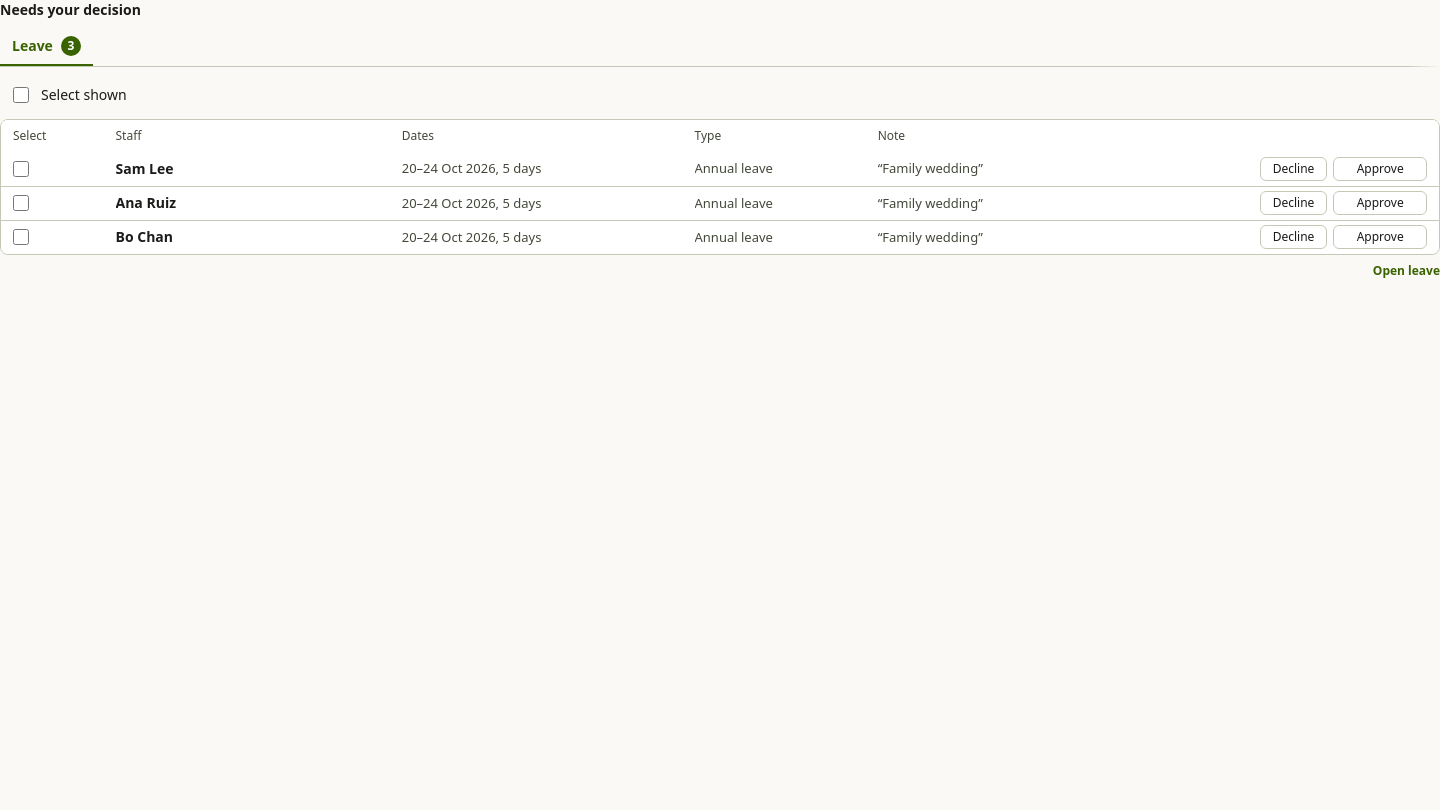
Test: Leave group — Complete all (decision-bulk) › re-reads after a row gets no answer: one that left goes uncredited, one still pending stays for a retry (review #266 F1)
Click the checkbox named "Select all shown leave requests" at [21, 95], box x1=13 y1=87 x2=29 y2=103
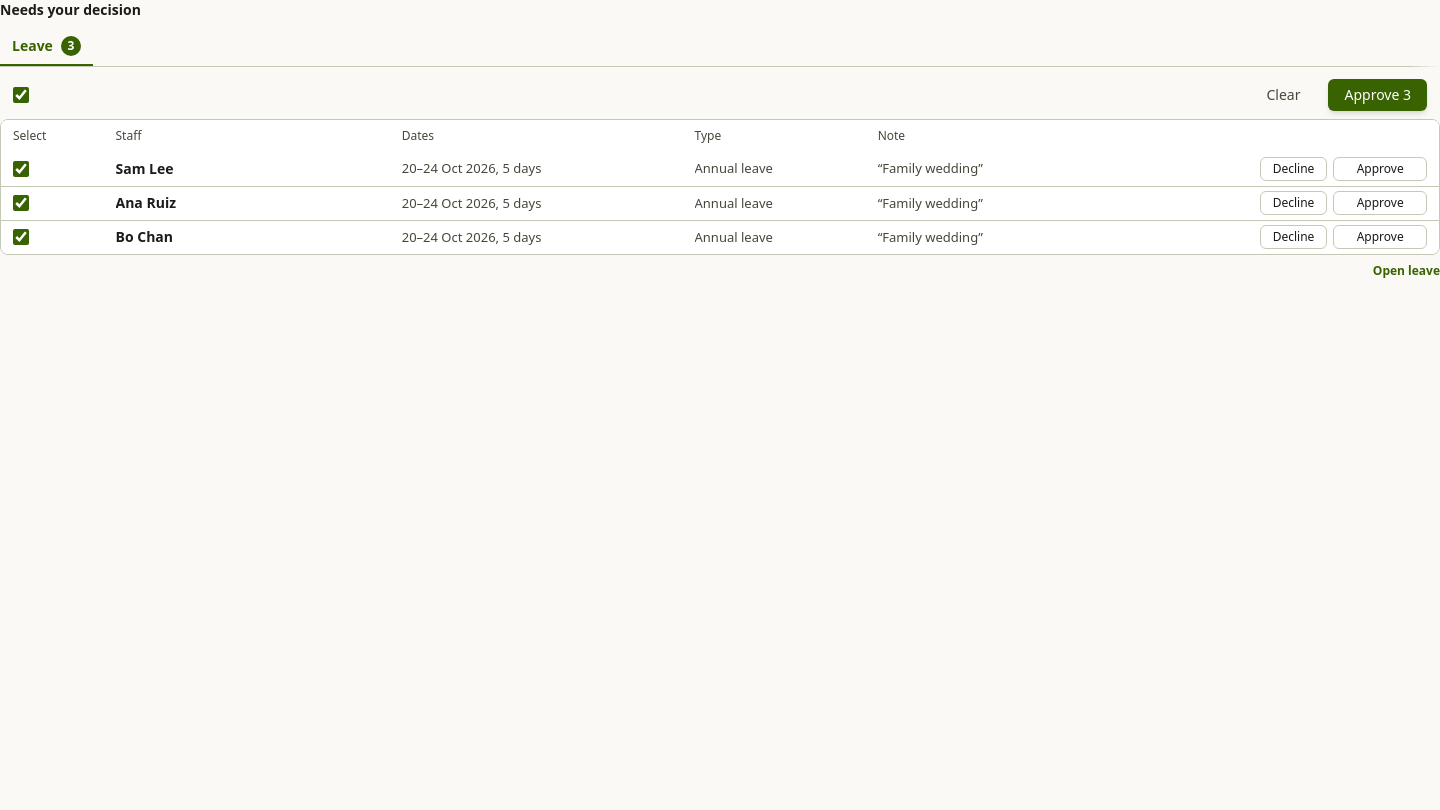
Click the button with aria-label "Approve 3 selected leave requests" at [1378, 95], box x1=1328 y1=79 x2=1427 y2=111
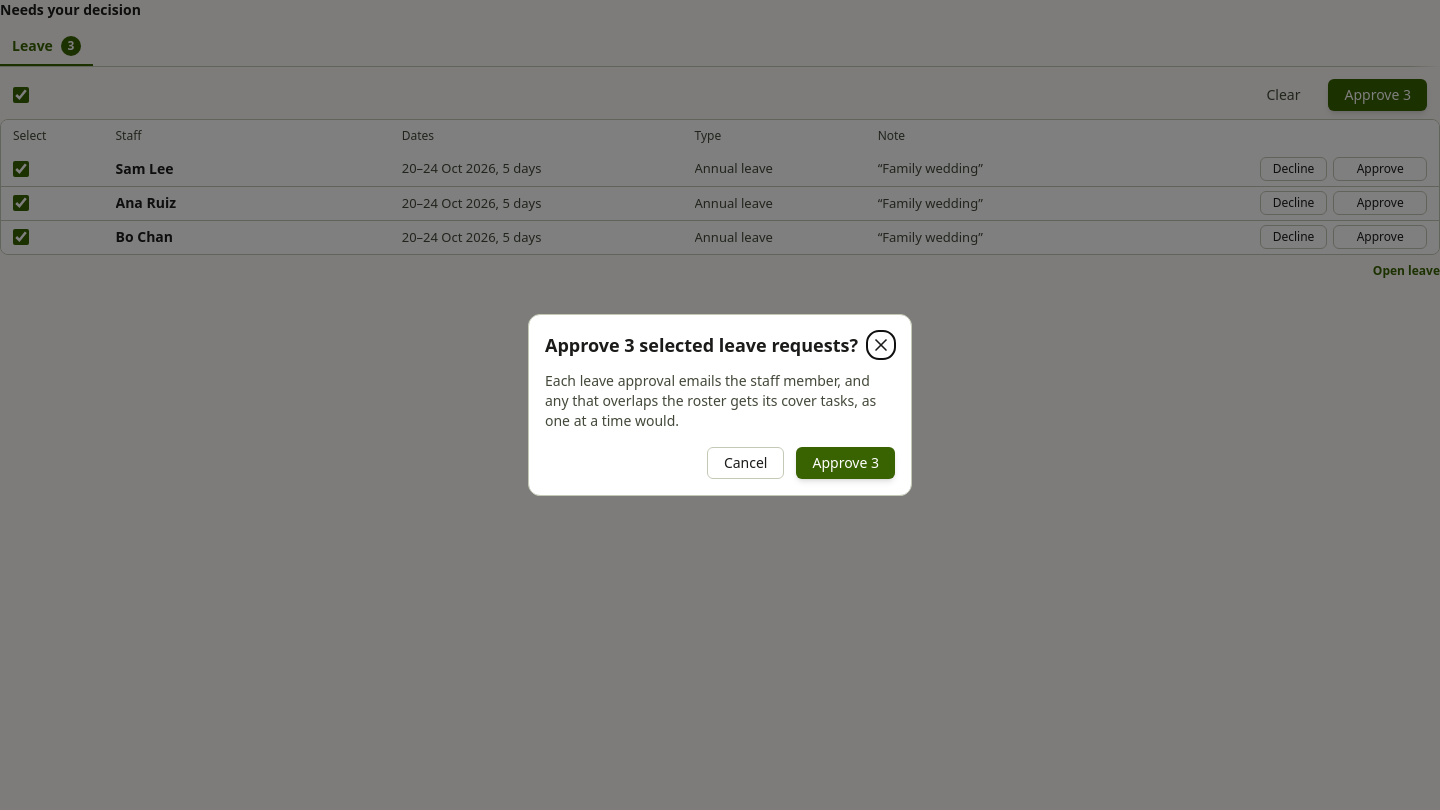
Click the button "Approve 3" at [846, 463], box x1=796 y1=447 x2=895 y2=479
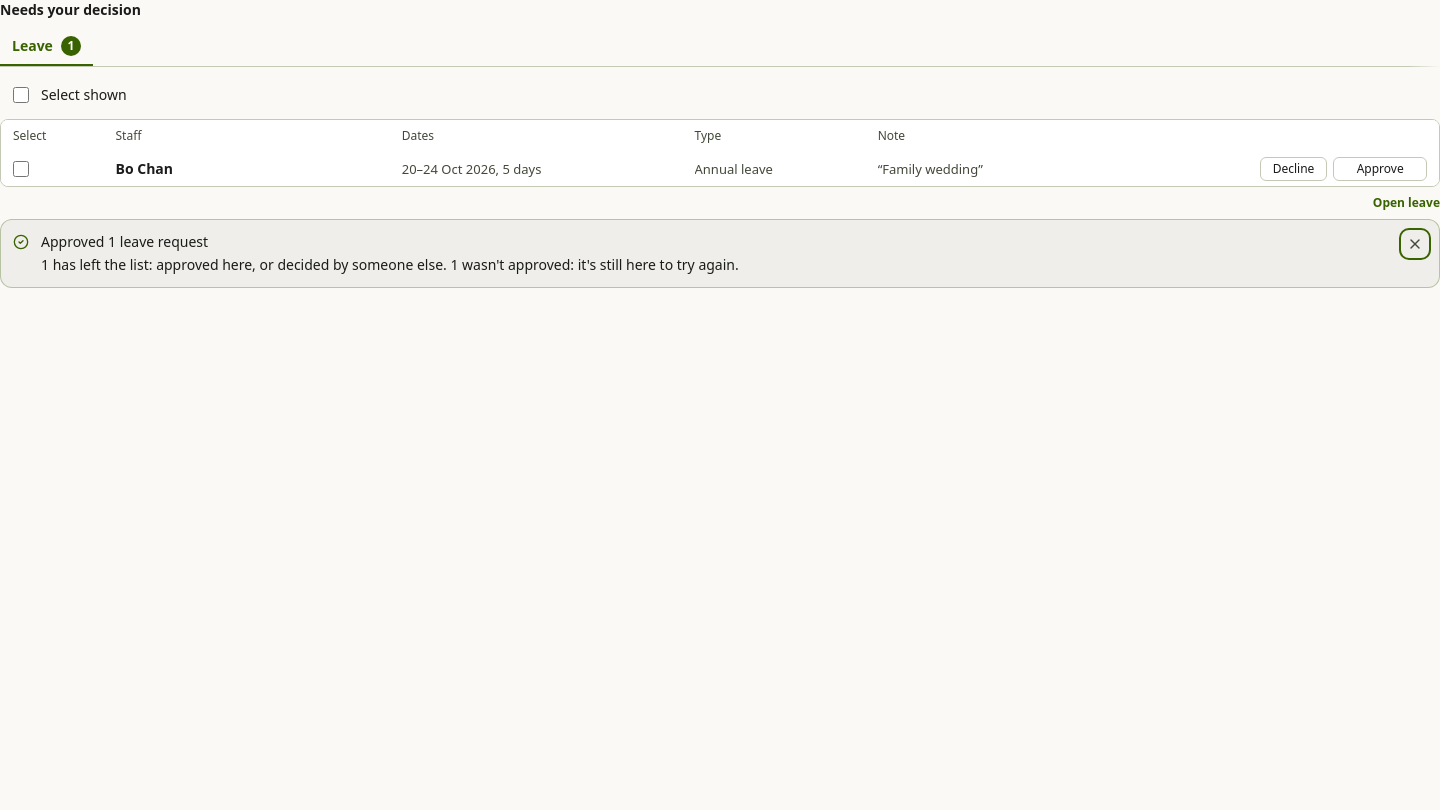
Result: the text "Approved 1 leave request" is shown at x1=41 y1=232 x2=208 y2=251
Result: the element that starts with "Approved 1 leave request" shows "1 has left the list: approved here, or decided by someone else. 1 wasn't approved: it's still here to try again." at x1=41 y1=255 x2=739 y2=274
